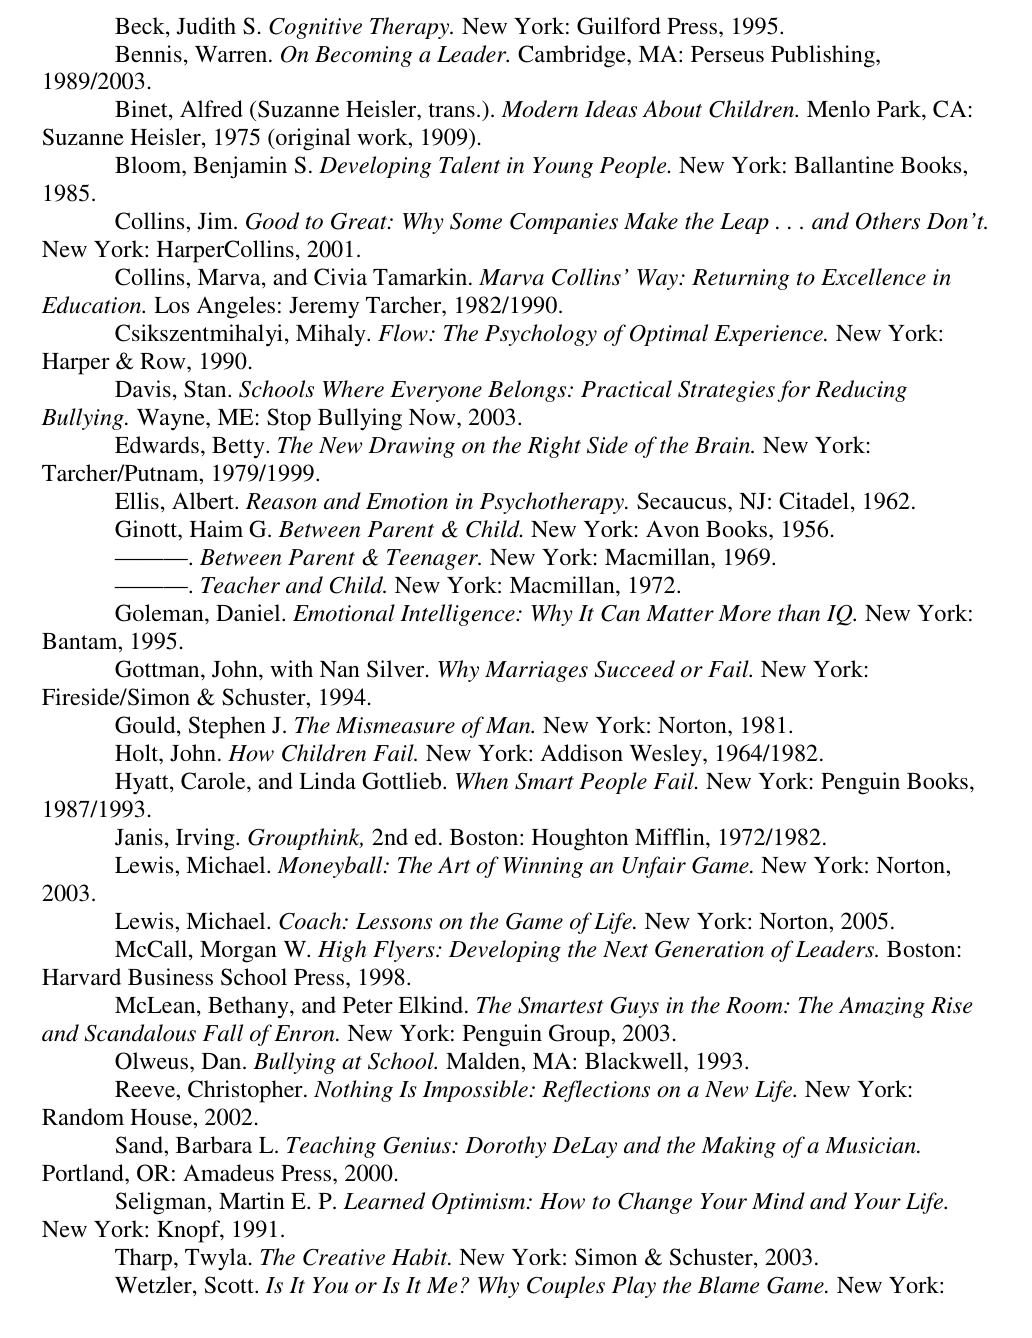latin: (38, 660, 980, 1046), (27, 401, 975, 660), (30, 1043, 957, 1305), (36, 10, 976, 207), (33, 209, 984, 401)
